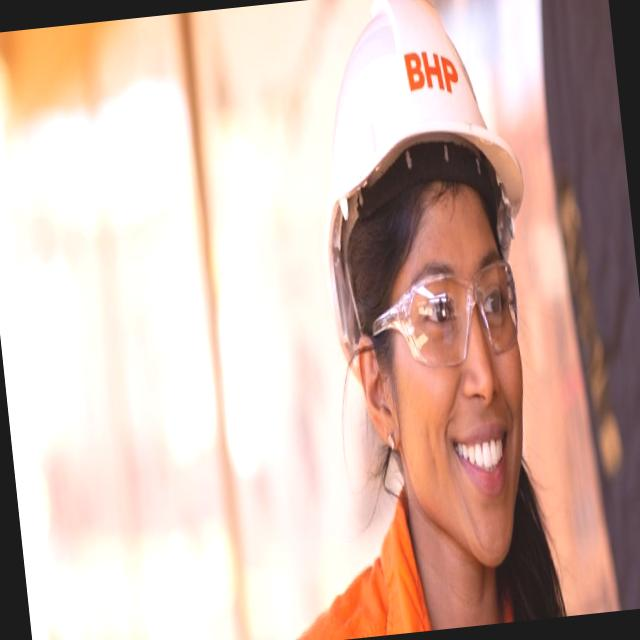goggles: (366, 257, 528, 381)
helmet: (297, 0, 546, 307)
